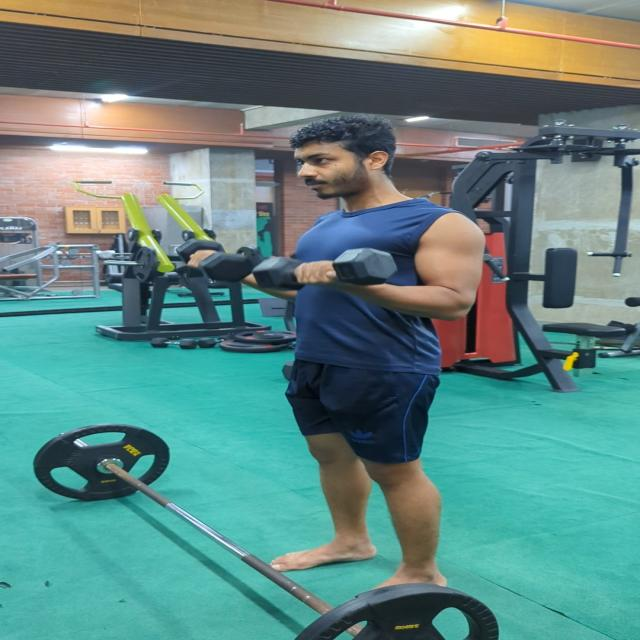Normal_DumbbellBicepCurls: (172, 112, 490, 601)
